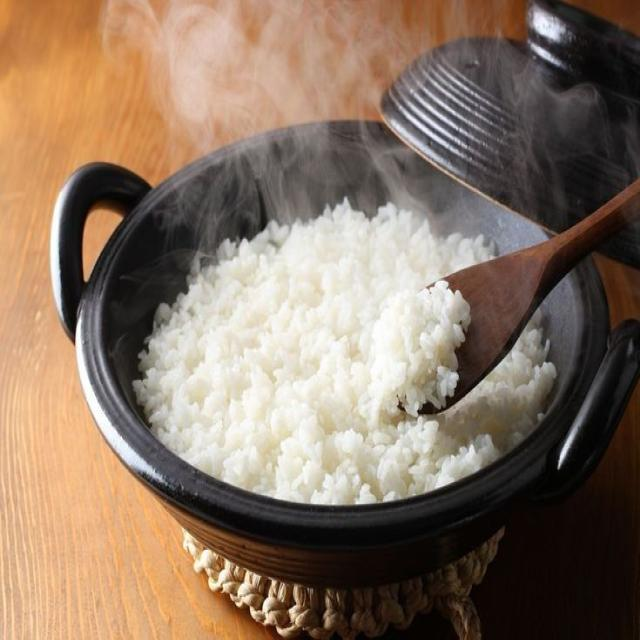rice: (135, 200, 555, 504)
